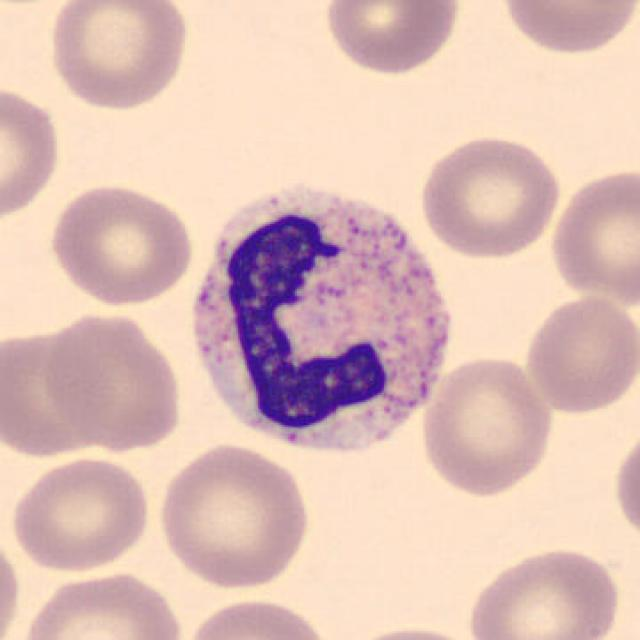Neutrophil: (180, 173, 464, 472)
RBC: (153, 439, 313, 591), (39, 307, 187, 455), (416, 353, 558, 499), (44, 180, 198, 308), (414, 130, 564, 261), (7, 453, 155, 575), (44, 0, 192, 113), (0, 318, 114, 460), (462, 543, 624, 640), (521, 293, 638, 416), (546, 162, 638, 307), (14, 567, 188, 640), (320, 0, 464, 78), (0, 79, 66, 224), (494, 0, 638, 58), (182, 594, 334, 640), (610, 423, 640, 550), (330, 622, 490, 640), (0, 527, 25, 640)
